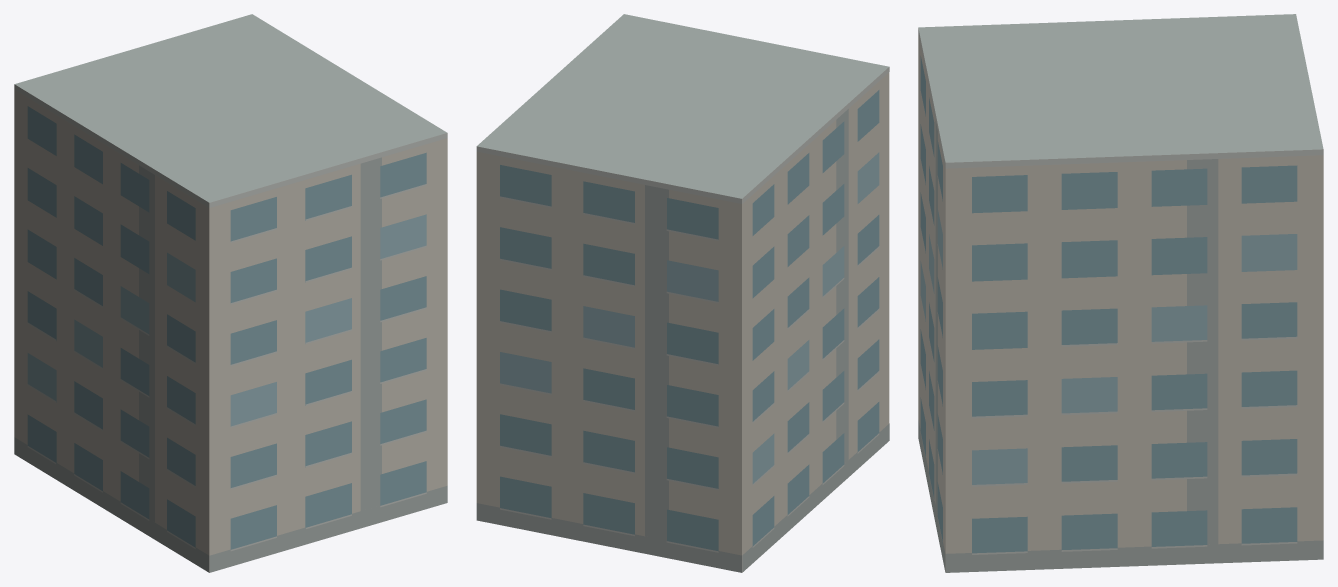
Rendered from survey-upis-32941609.glb.
3 views of the same model, side by side, from view 1: azimuth 30°, elevation 25°; view 2: azimuth 150°, elevation 25°; view 3: azimuth 270°, elevation 25° (orthographic). The views are drawn at different scales.
Parts seen in each view (by area): view 1: survey-upis-32941609.tmp; view 2: survey-upis-32941609.tmp; view 3: survey-upis-32941609.tmp.
Part boxes in pixels (left/top/right/bottom): survey-upis-32941609.tmp: left=14, top=14, right=447, bottom=572; survey-upis-32941609.tmp: left=476, top=14, right=889, bottom=572; survey-upis-32941609.tmp: left=918, top=14, right=1323, bottom=572.
Bounding box in the file's own units: 13.39 × 17.2 × 15.41.
